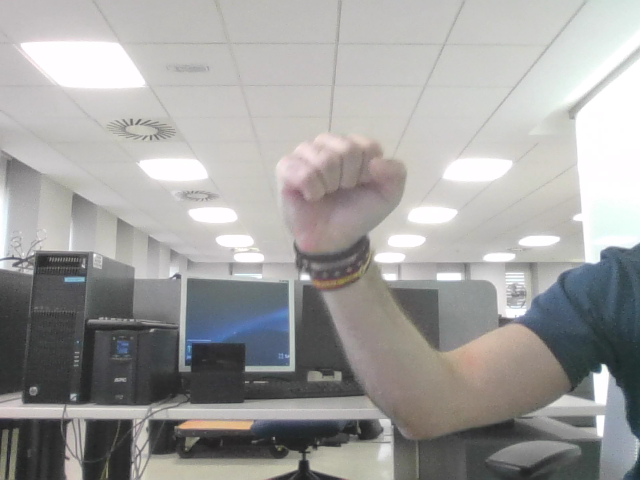Puño: (288, 144, 391, 223)
